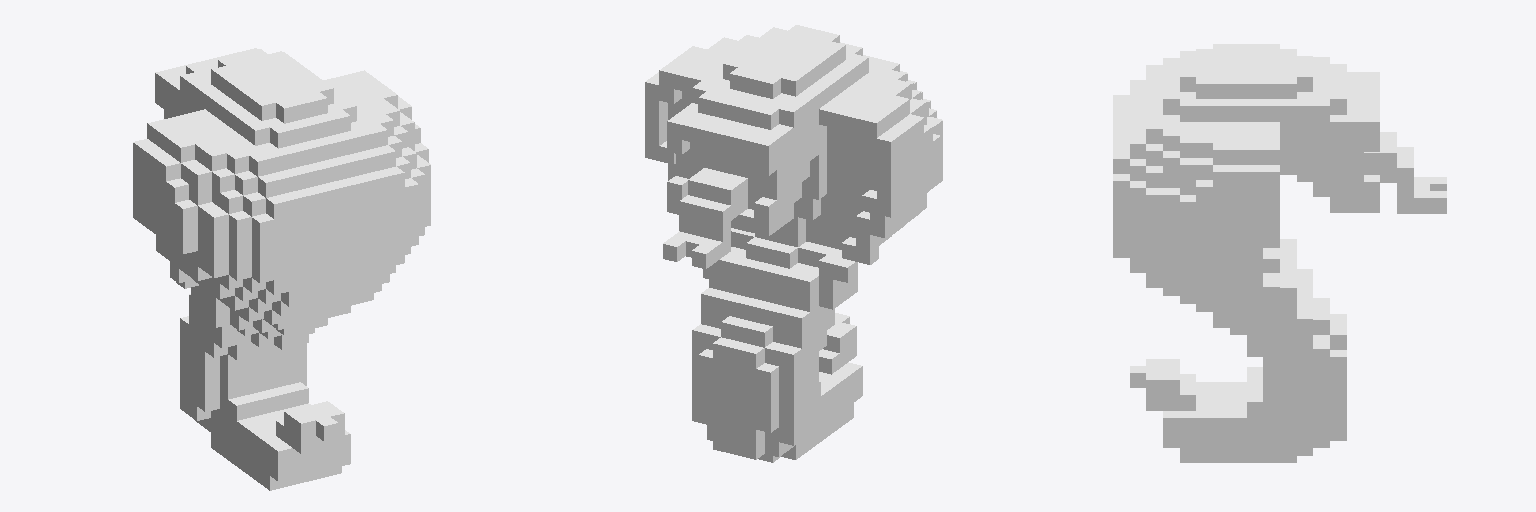
File: Cobra.obj
3 renders of one model, left to right at view 1: azimuth 30°, elevation 25°; view 2: azimuth 150°, elevation 25°; view 3: azimuth 270°, elevation 25°, orthographic.
Parts seen in each view (by area): view 1: Cobra; view 2: Cobra; view 3: Cobra.
Part boxes in pixels (bbox=[...]): Cobra: bbox=[133, 48, 430, 490]; Cobra: bbox=[645, 25, 942, 462]; Cobra: bbox=[1113, 44, 1446, 462].
Bounding box in the file's own units: 68 × 100 × 80.